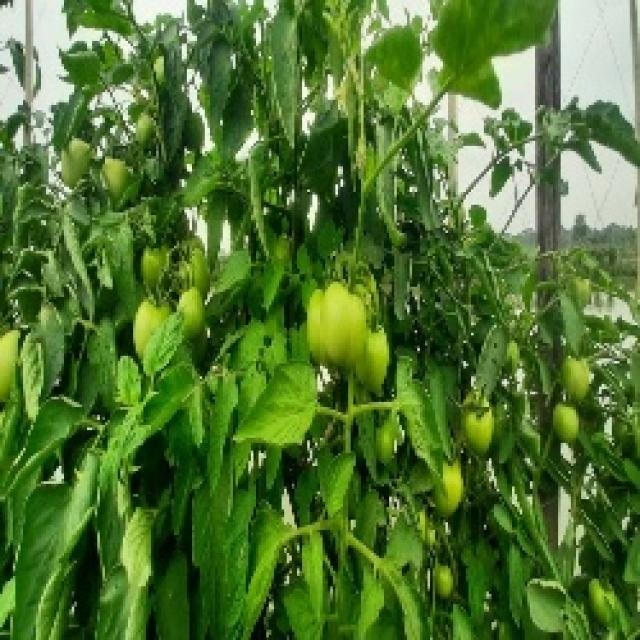tomato: (300, 280, 364, 362), (462, 387, 506, 458), (358, 323, 397, 399), (433, 459, 470, 518), (173, 234, 210, 285), (128, 295, 166, 341), (177, 287, 210, 335), (143, 246, 175, 293), (66, 137, 96, 187), (552, 398, 586, 442), (561, 358, 595, 400), (1, 329, 19, 393), (133, 108, 156, 156), (431, 558, 457, 599), (97, 162, 131, 192)
